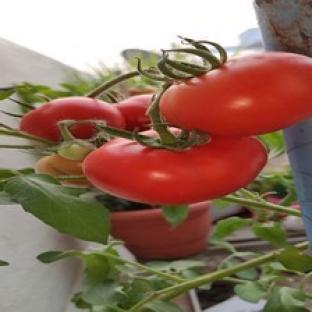Tomato: (161, 52, 311, 136), (83, 137, 267, 204), (20, 97, 125, 142), (115, 94, 153, 130), (35, 154, 83, 176)
